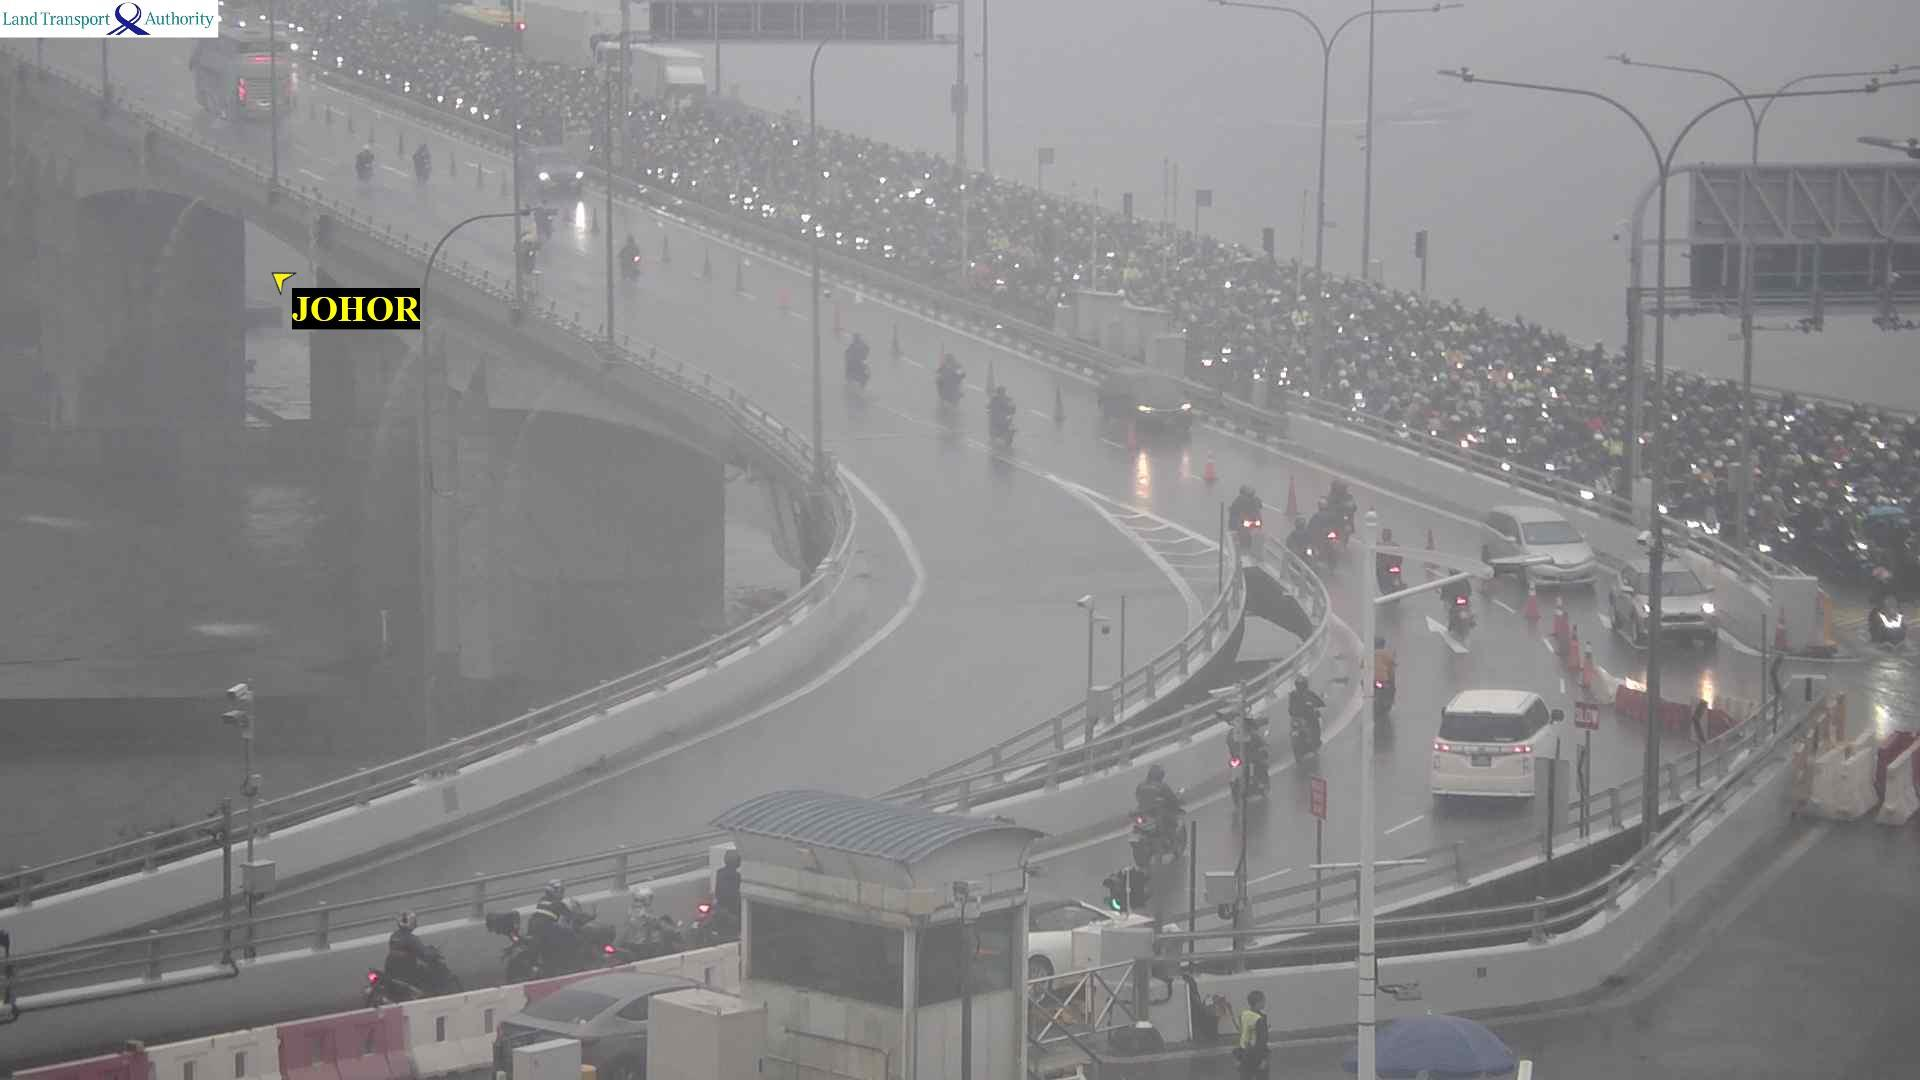vehicle-secondlink-johor: (1438, 686, 1561, 802), (492, 880, 613, 974), (200, 31, 296, 117), (374, 910, 462, 1000), (1101, 365, 1194, 435), (609, 880, 684, 964), (1132, 760, 1188, 871), (1284, 672, 1327, 768), (1225, 713, 1274, 796), (694, 850, 739, 938), (1362, 631, 1398, 714), (1439, 565, 1478, 640), (1230, 482, 1263, 545), (1377, 527, 1404, 598), (1313, 496, 1342, 561), (844, 322, 871, 391), (986, 390, 1016, 438), (936, 354, 965, 403), (1289, 515, 1315, 568), (618, 228, 641, 279), (414, 141, 433, 178), (358, 144, 372, 180)
vehicle-secondlink-singapore: (1610, 557, 1720, 654), (1482, 505, 1599, 592), (516, 143, 584, 197)
